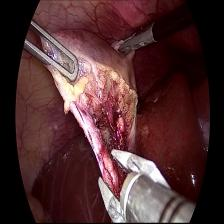Clipper: (96, 146, 172, 223)
Grasper: (23, 20, 80, 84), (116, 20, 158, 60)
